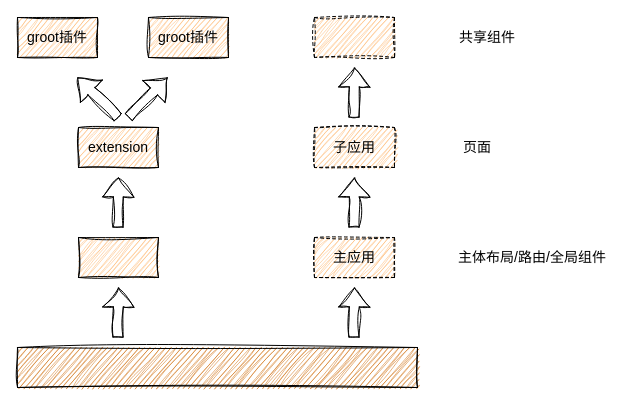
This 635x405 diagram has some shape labels left out. The shapes that lost their labels are listed below. From the top down, each one's centre as x and y in pixels, then its label:
(354,37): 子应用插件
(118,257): Studio
(217,367): Pangu
